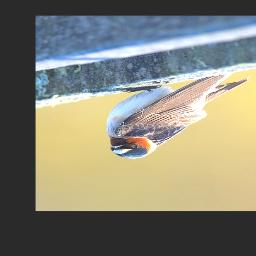Swallow: (105, 70, 250, 159)
